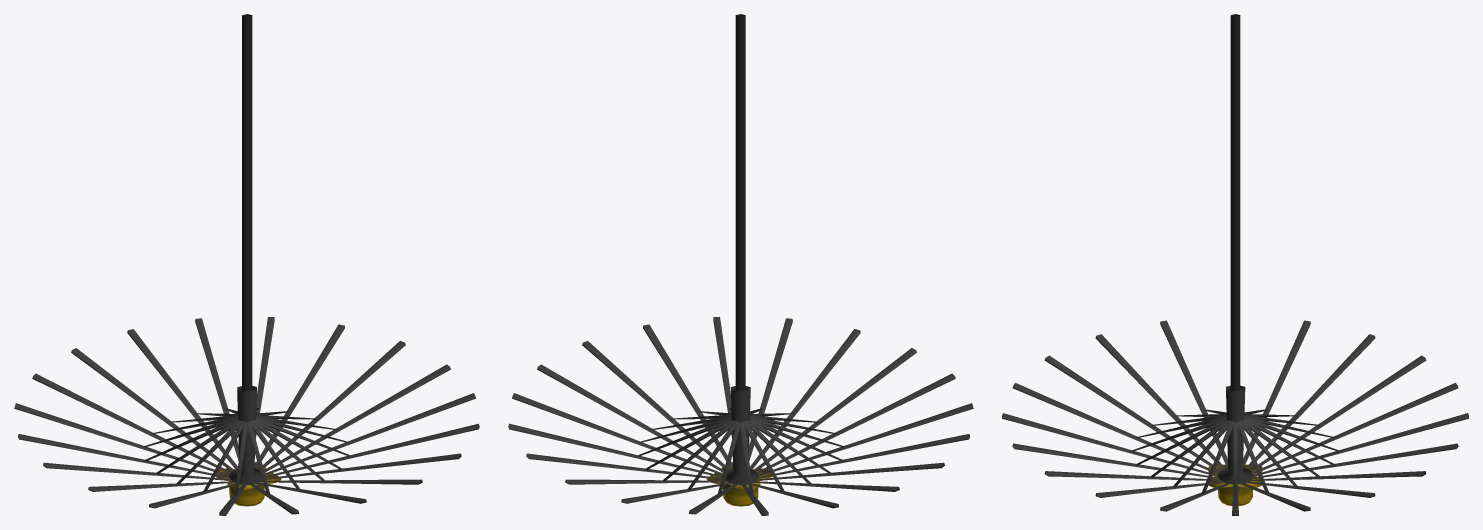
File: UmbrellaBangasa0.glb
The picture shows the model from 3 angles, left to right: view 1: azimuth 30°, elevation 25°; view 2: azimuth 150°, elevation 25°; view 3: azimuth 270°, elevation 25°; orthographic projection.
Parts seen in each view (by area): view 1: Pole__mUmbrella; view 2: Pole__mUmbrella; view 3: Pole__mUmbrella.
Part boxes in pixels (<box>): Pole__mUmbrella: <box>14,14,479,515</box>; Pole__mUmbrella: <box>508,14,973,515</box>; Pole__mUmbrella: <box>1002,14,1468,515</box>.
Bounding box in the file's own units: 14.91 × 17.02 × 14.91.
Materials: 1 (1 with a texture image).
